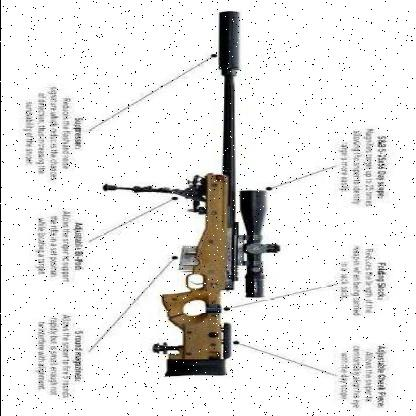rifle: (118, 8, 291, 380)
